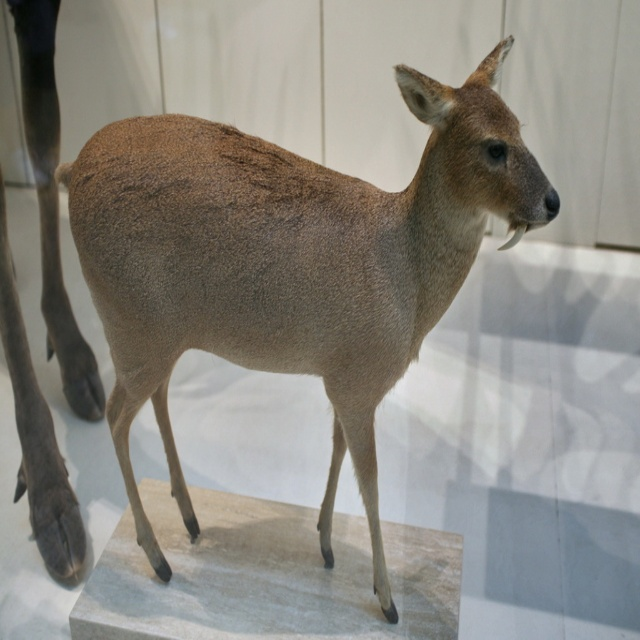Deer: (52, 37, 558, 620)
